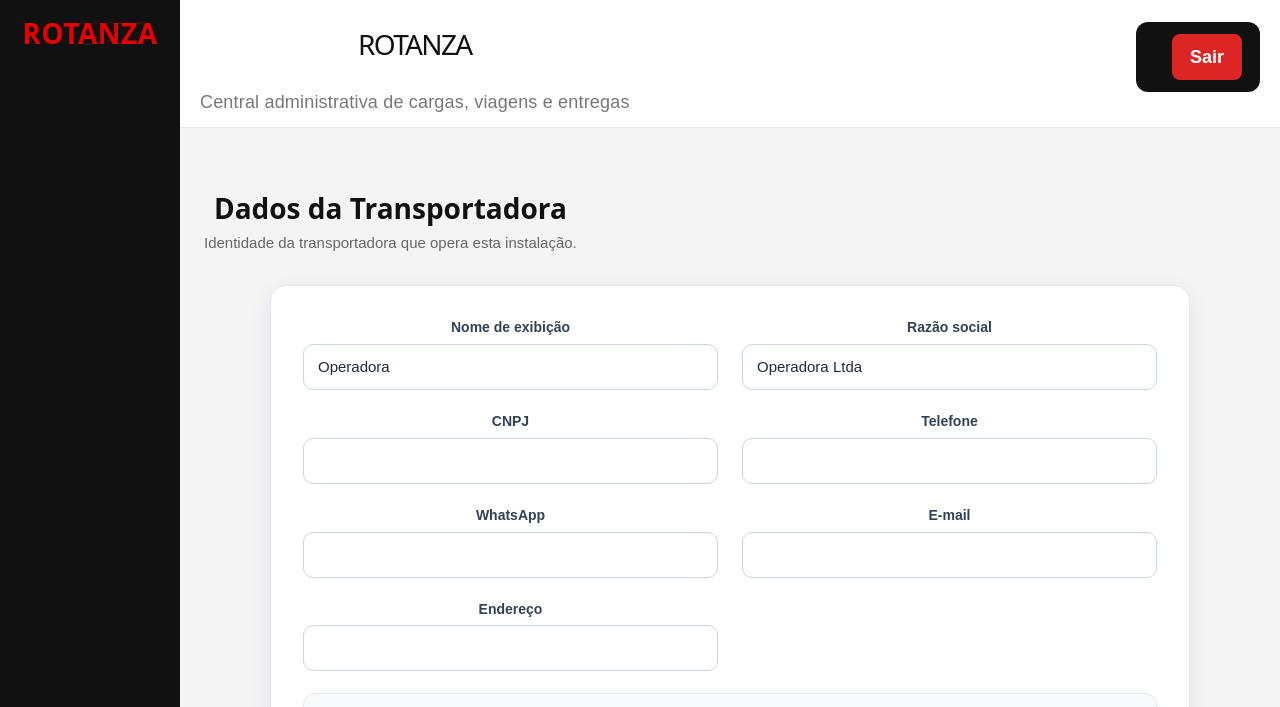
Dados da Transportadora › carrega dados existentes e salva pelo endpoint próprio sem enviar logo
Step 1. Replace the text in the field labelled "Nome de exibição" with "Nova Operadora" → (510, 367), box [303,344,718,390]
(page scrolled)
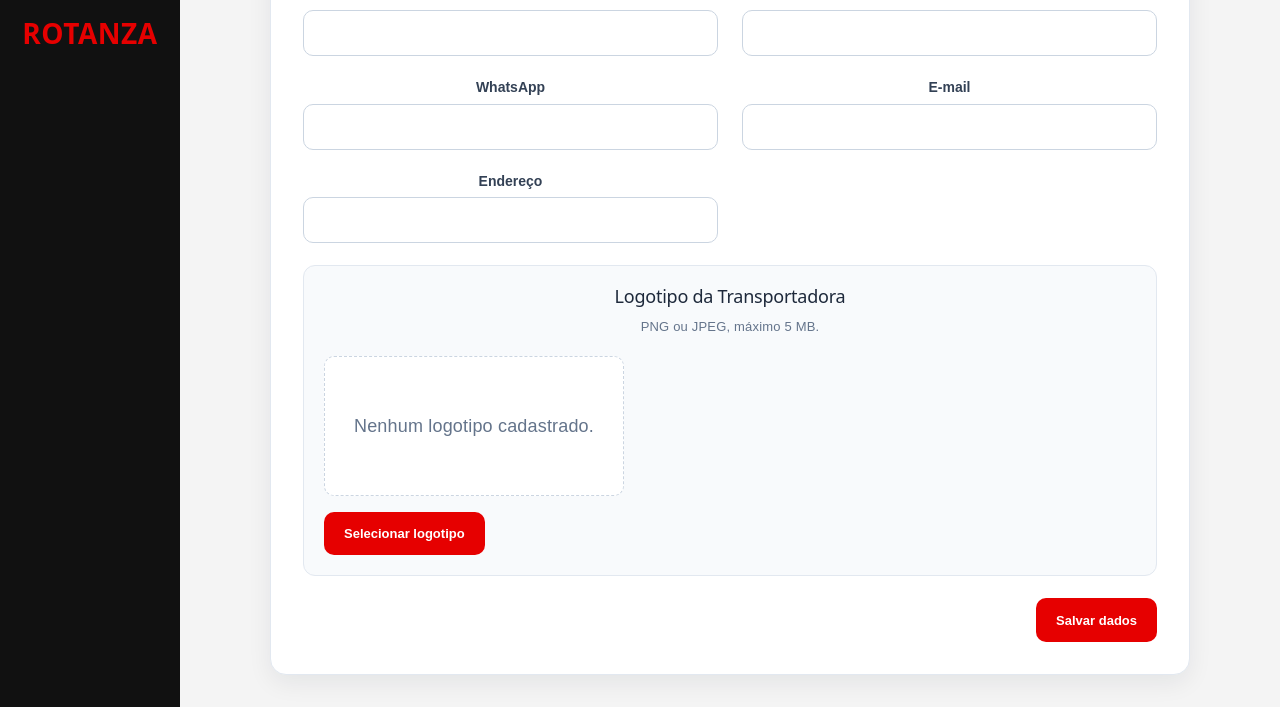
Step 2. Click the button "Salvar dados" → (1097, 620), box [1036,598,1157,642]
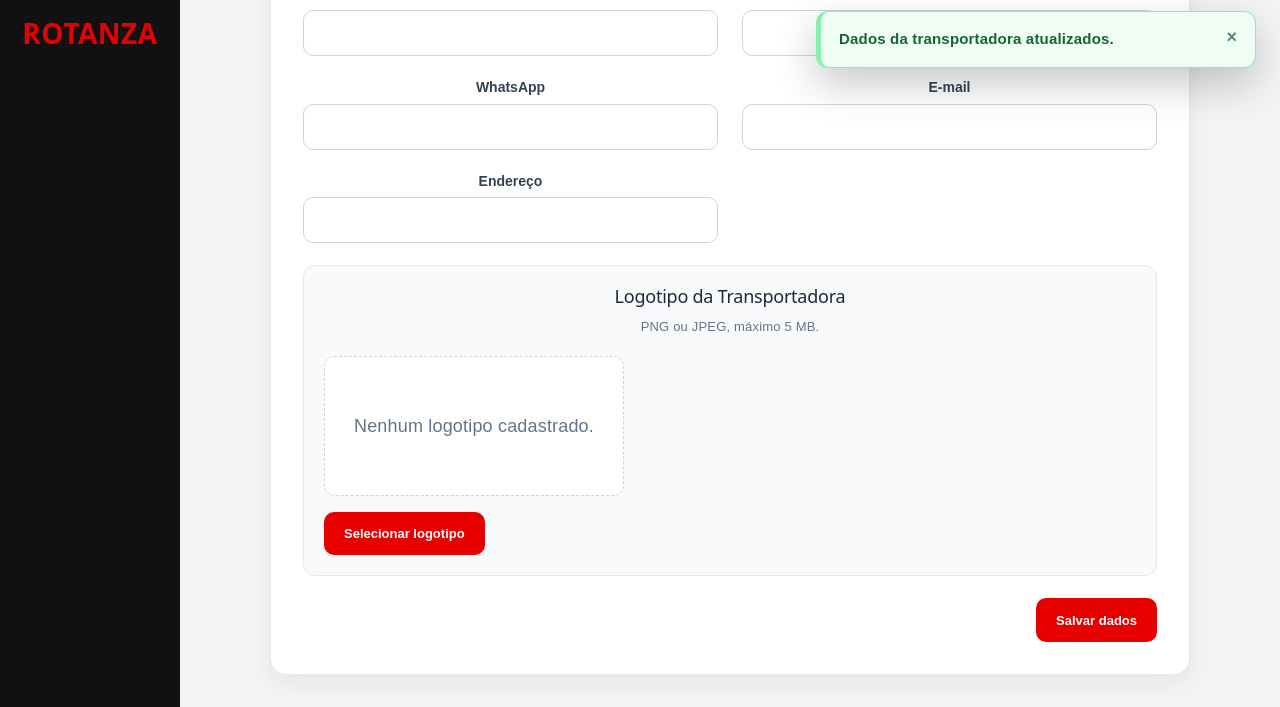
Expected: the text "Dados da transportadora atualizados." is shown, [839,28,1114,50]
